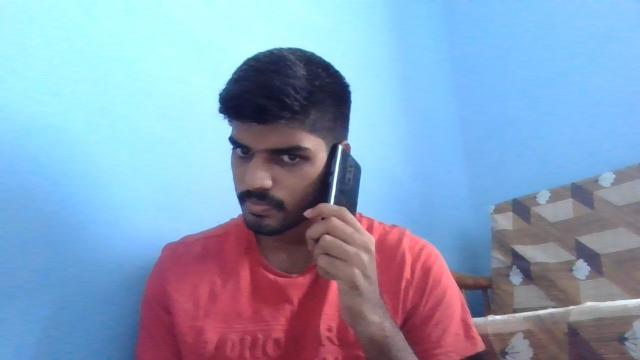PhoneUse: (329, 144, 363, 282)
SafeDriving: (225, 125, 259, 164), (268, 146, 312, 168)
